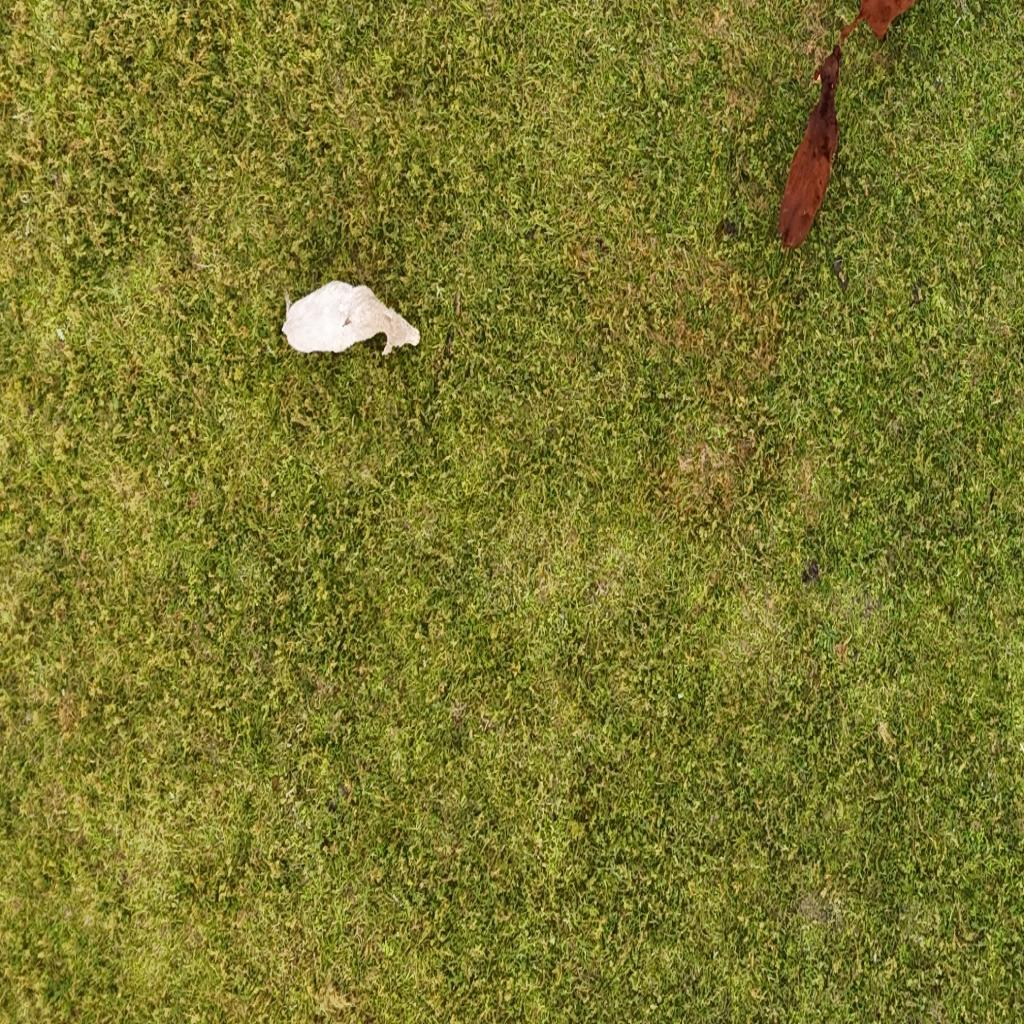cow: (773, 52, 846, 256), (278, 276, 419, 363)
